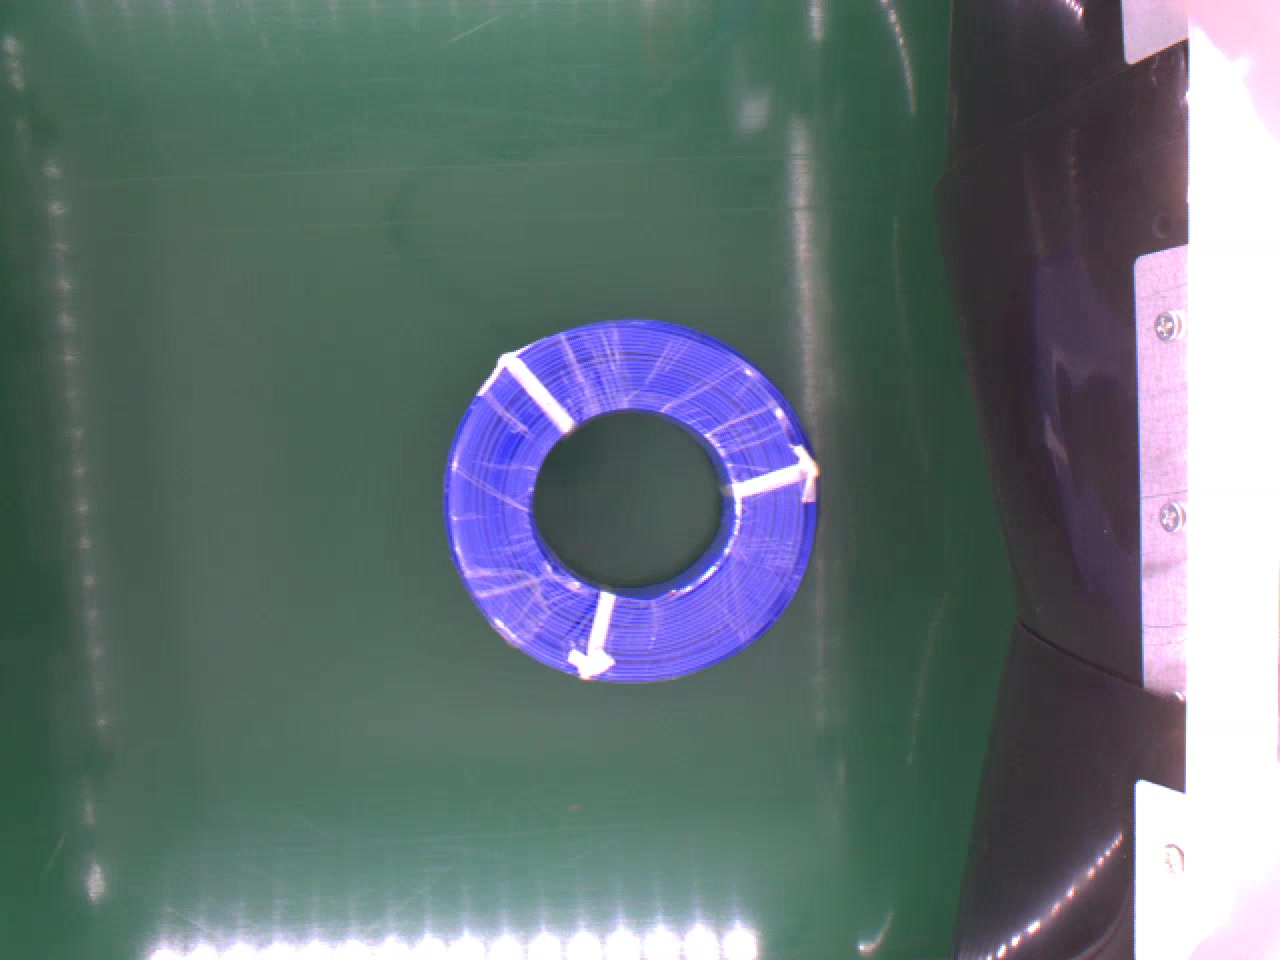blue: (436, 318, 824, 700)
